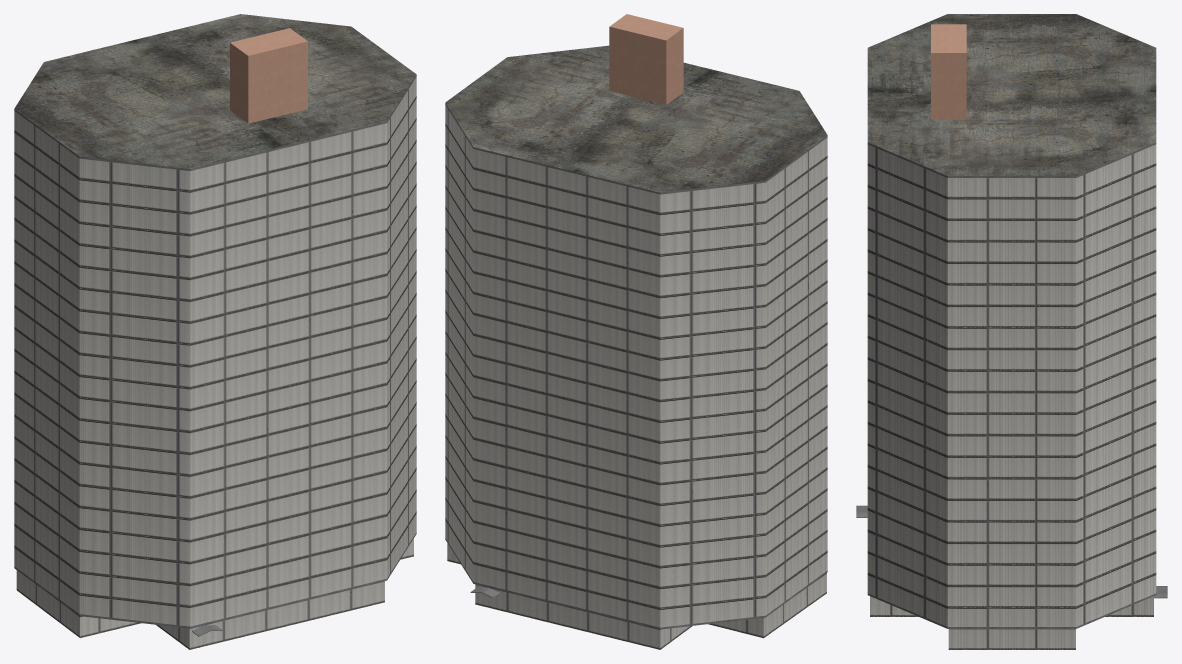
The model's file is LOD01_Building_21stores_Office.obj.
3 views of the same model, side by side, from view 1: azimuth 30°, elevation 25°; view 2: azimuth 150°, elevation 25°; view 3: azimuth 270°, elevation 25° (orthographic). The views are drawn at different scales.
Visible parts, largest first — view 1: LOD01_Building_21stores_Office; view 2: LOD01_Building_21stores_Office; view 3: LOD01_Building_21stores_Office.
Part boxes in pixels (x1,y1,x2,y2): LOD01_Building_21stores_Office: [14, 14, 416, 649]; LOD01_Building_21stores_Office: [445, 14, 827, 649]; LOD01_Building_21stores_Office: [856, 14, 1167, 649].
Size of the model in its own units: 15.88 by 24.74 by 12.89.
